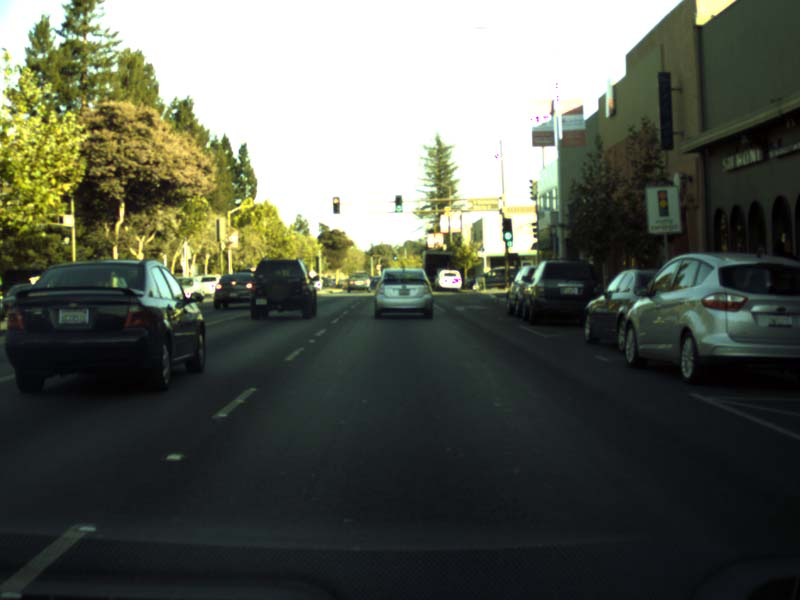Green: (503, 217, 512, 240), (395, 195, 402, 211), (506, 238, 512, 246)
Red: (332, 196, 340, 213)
